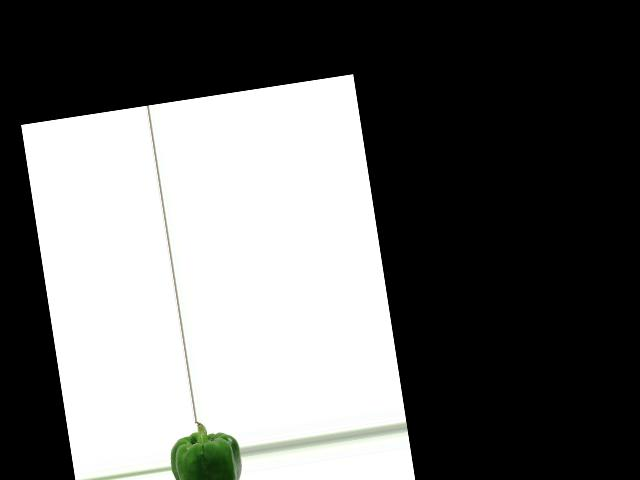bell_pepper: (165, 418, 246, 480)
